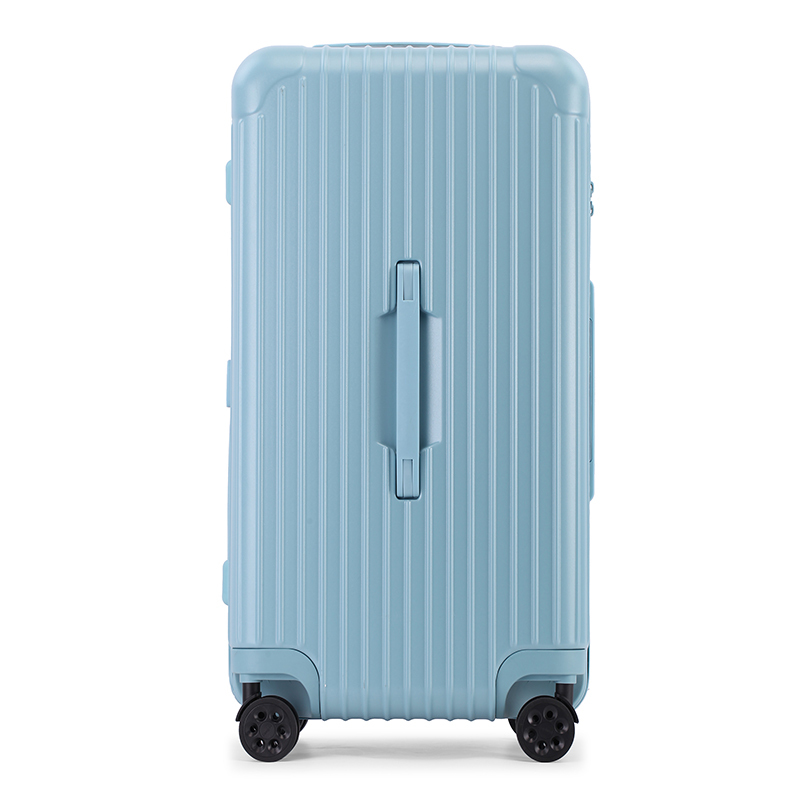box: (228, 43, 590, 721)
wheel: (236, 695, 299, 762), (516, 696, 576, 763)
